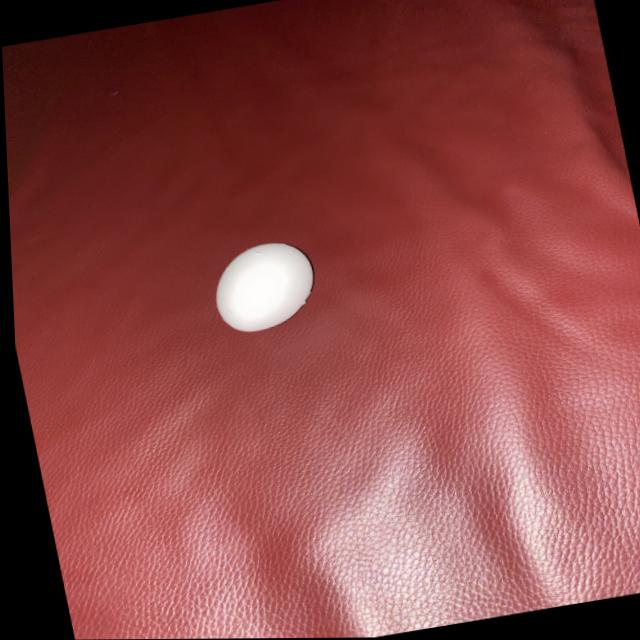egg: (198, 231, 327, 347)
